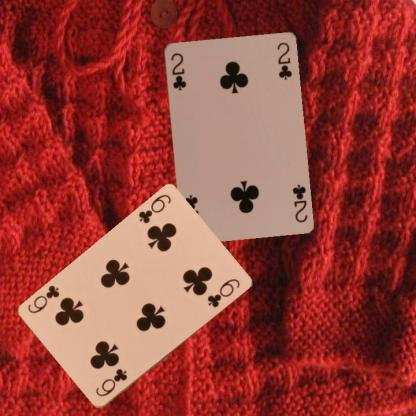2c: (168, 50, 187, 92), (290, 182, 308, 224)
6c: (136, 192, 173, 226), (93, 366, 129, 398)
